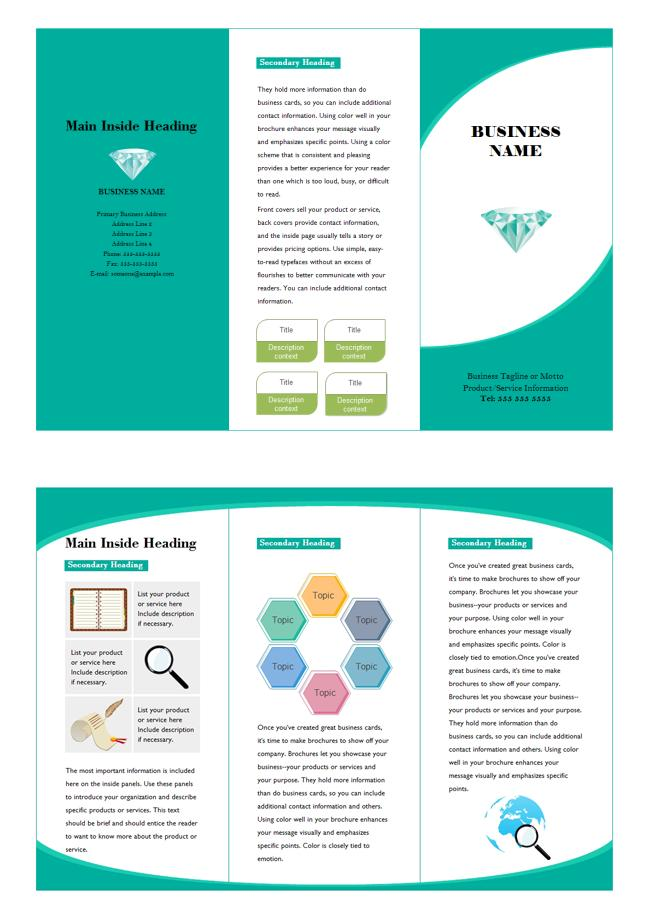paper: (36, 489, 613, 891), (36, 29, 614, 430)
